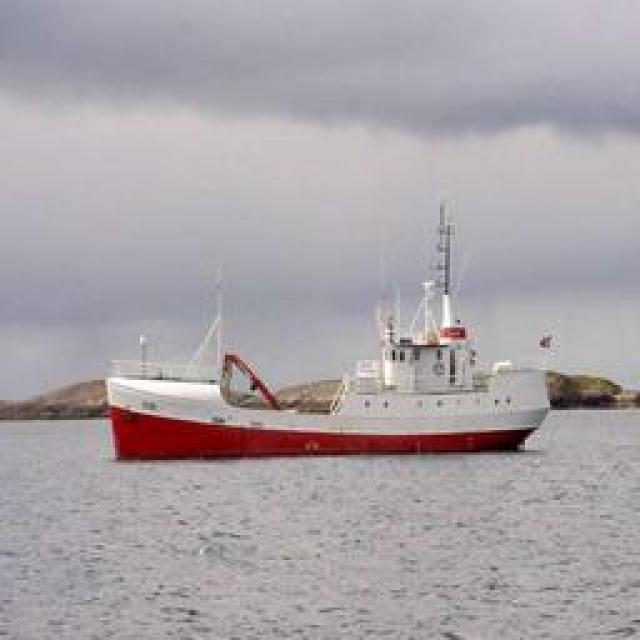CIV_Ship: (85, 202, 550, 456)
